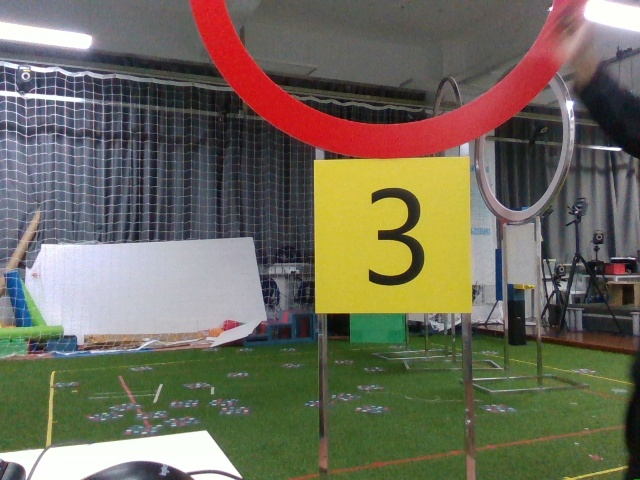target: (316, 162, 470, 312)
